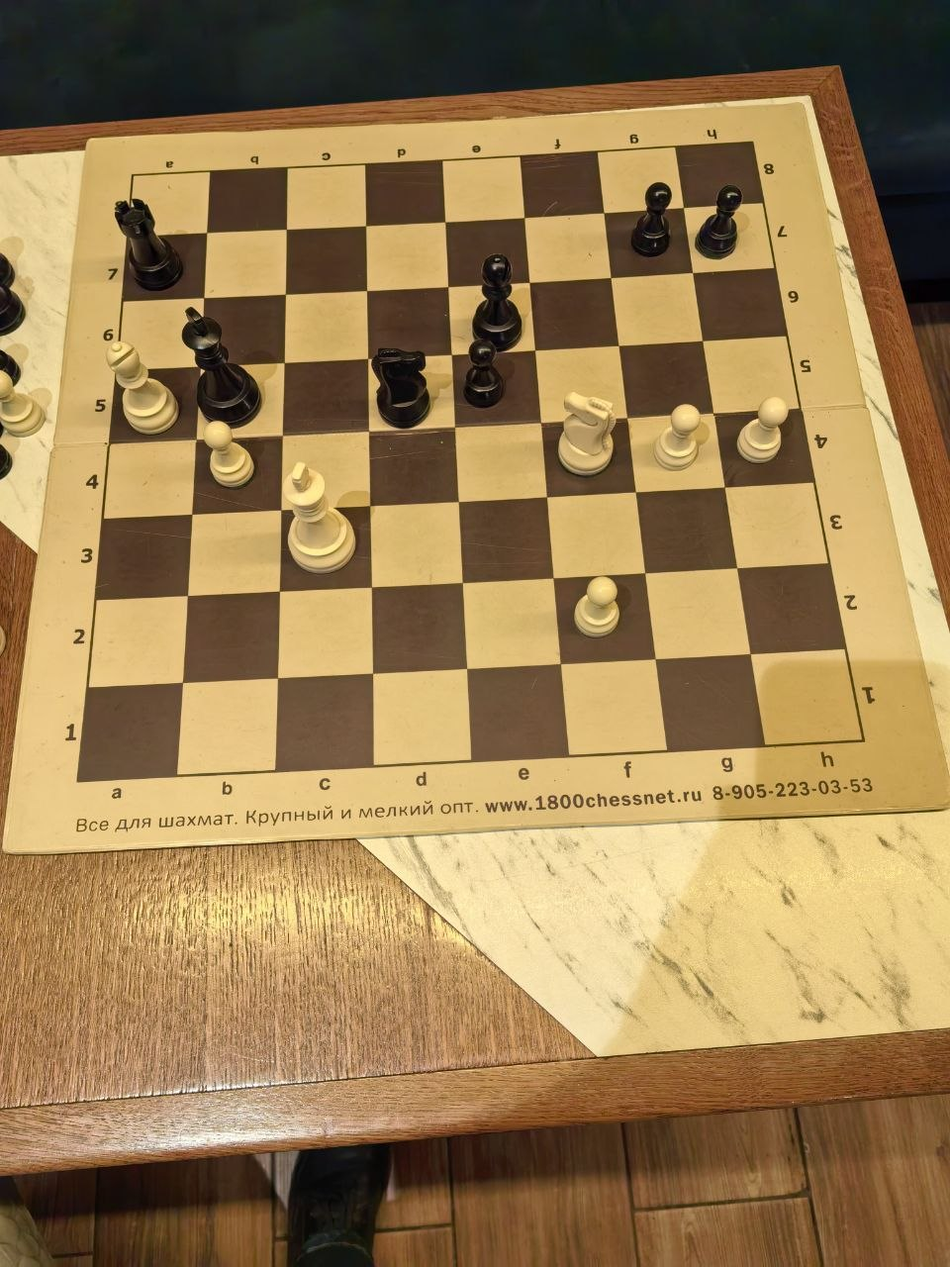black-bishop: (238, 792, 356, 950)
black-pawn: (0, 475, 119, 634)
black-queen: (594, 634, 712, 792)
black-rook: (119, 634, 238, 792), (712, 634, 831, 792), (831, 634, 950, 792), (594, 950, 712, 1109)
white-bishop: (119, 475, 238, 634)
white-knight: (0, 158, 119, 317)
white-pawn: (475, 317, 594, 475)
white-queen: (356, 475, 475, 634)
white-rook: (712, 158, 831, 317), (831, 158, 950, 317), (475, 475, 594, 634)
